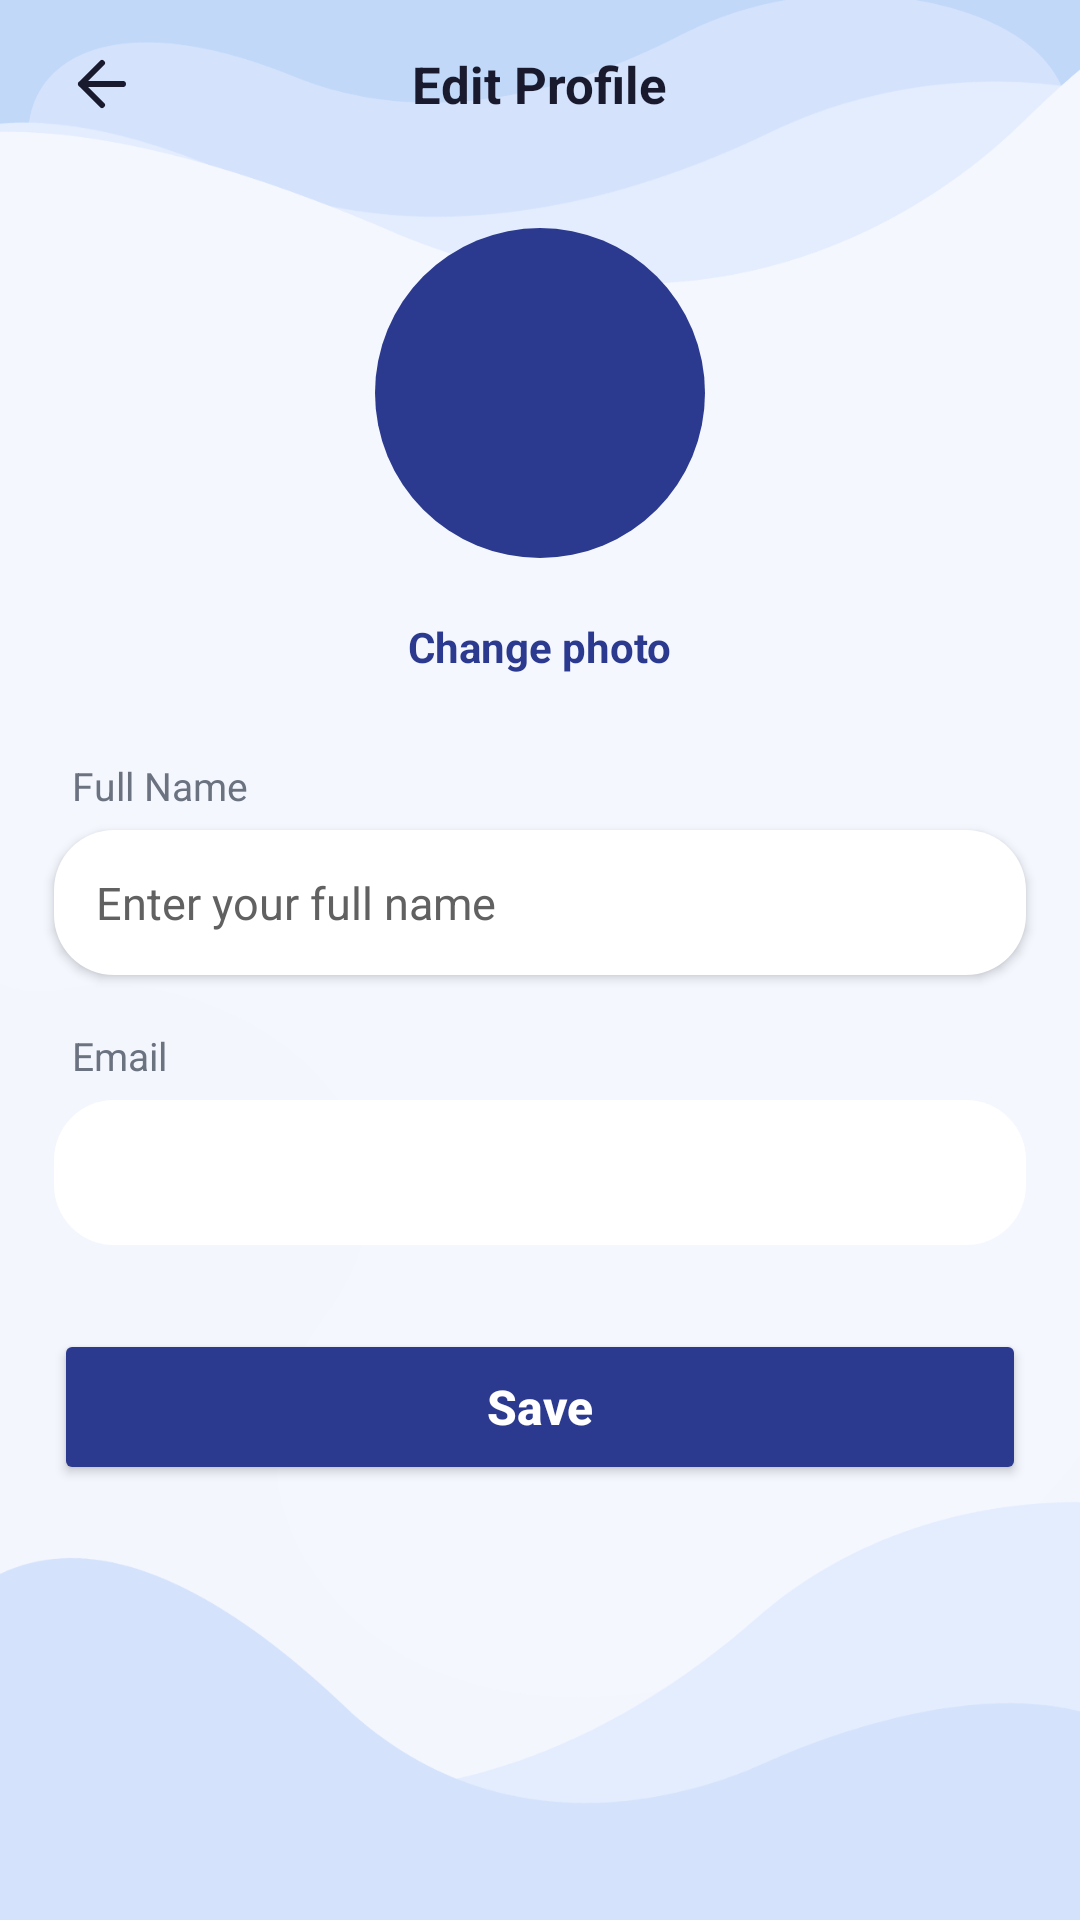

Screen size 1080w x 1920h. Icon name, then its box in pixels as [x1, y1, x2, y2]:
Back: [30, 42, 174, 156]
